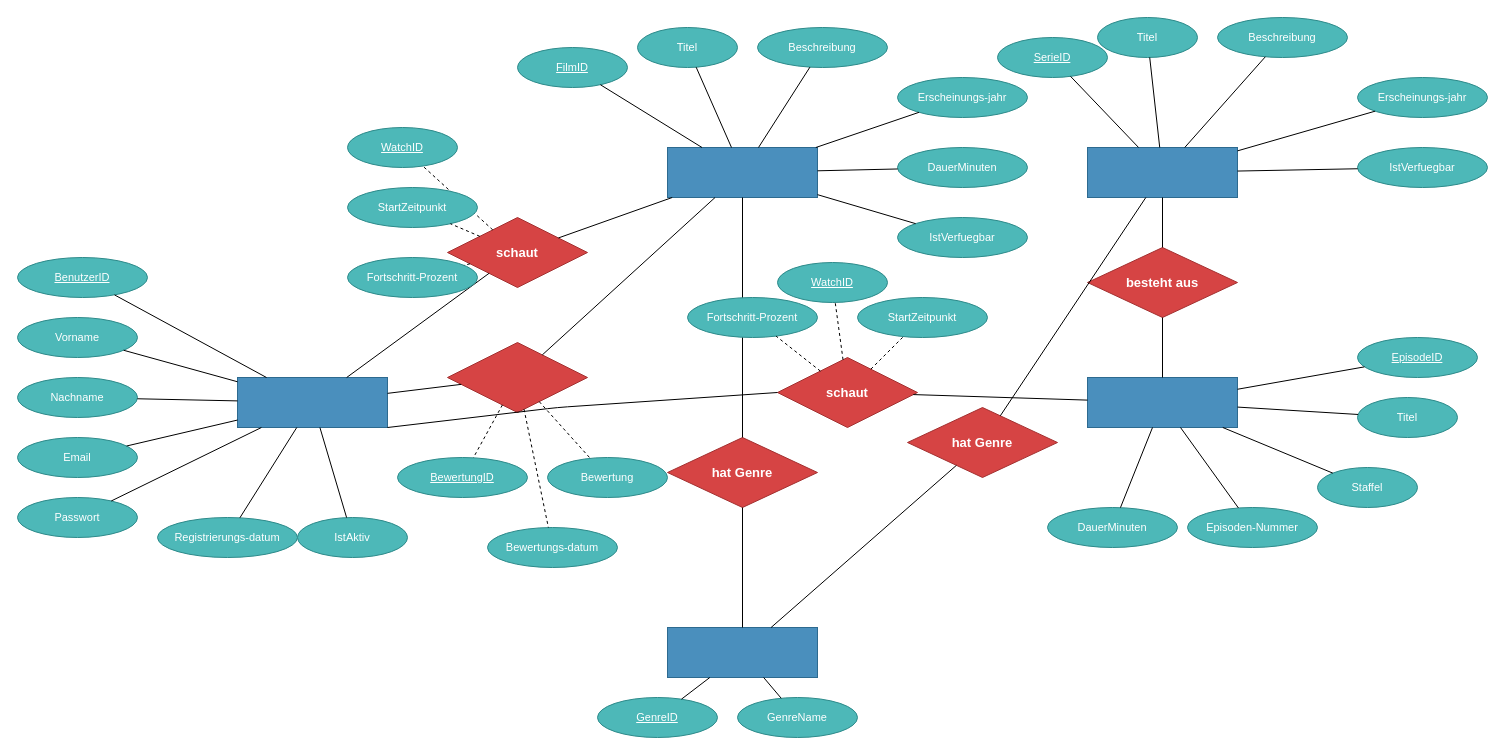
Some shapes in this 1505 by 755 pixel diagram are drawn without their labels. Here are the shapes that lost their labels. From the top down, the centre of each, then its label:
the point at 742,172: Film
the point at 1162,172: Serie
the point at 517,377: bewertet
the point at 312,402: Benutzer
the point at 1162,402: Episode
the point at 742,652: Genre
